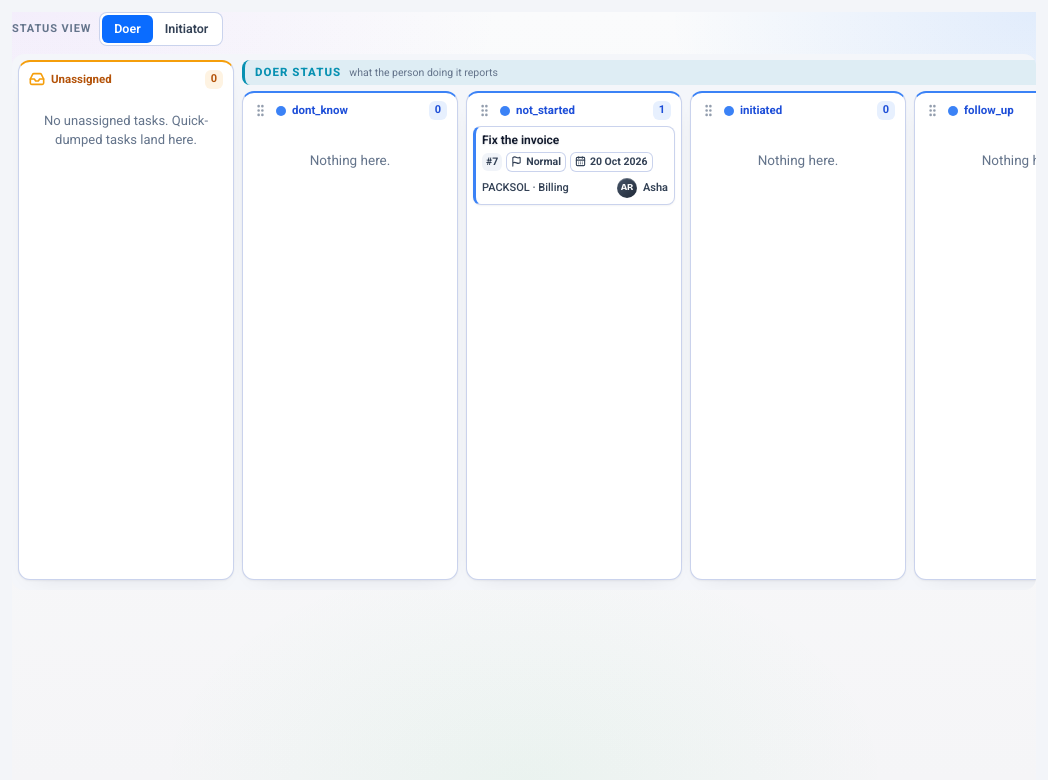
Test: Kanban Doer / Initiator switch › switching to Initiator replaces the columns, it does not just rename them
Click the tab "Initiator": (186, 29) [153,15,220,43]
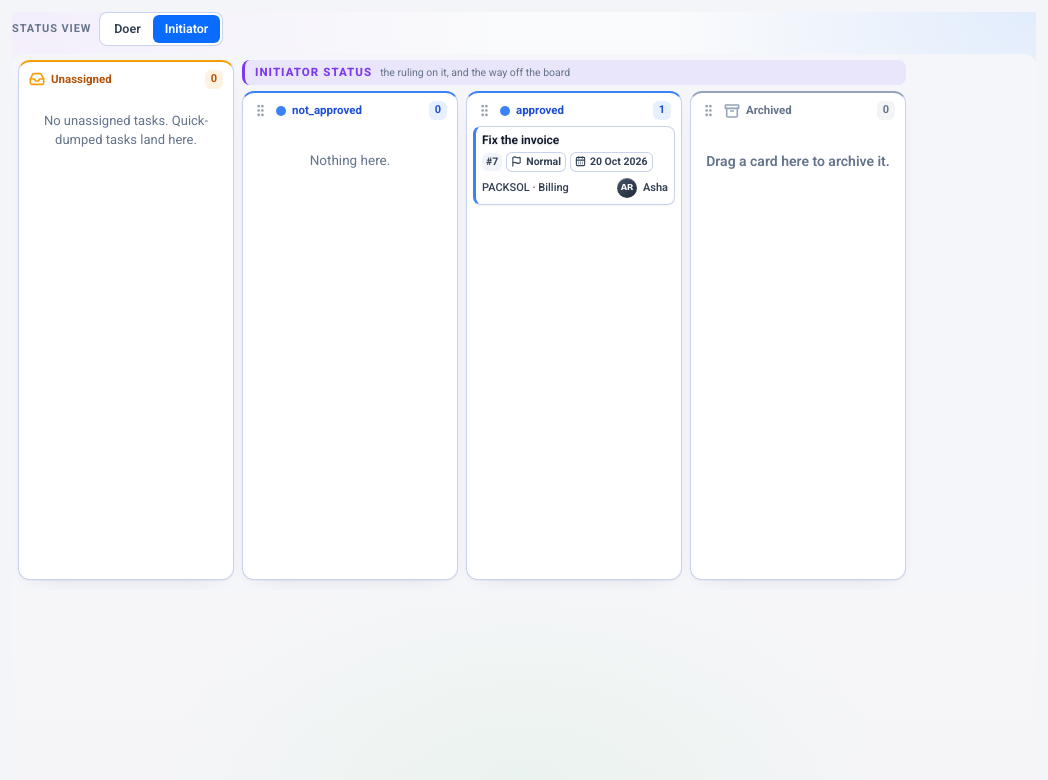
Expected: the number of links "Fix the invoice" is 1, [482,133,559,148]
Now the text "Initiator status" is shown, box [255,64,372,81]
Now the text "Doer status" is gone
Click the tab "Doer": (127, 29) [102,15,153,43]
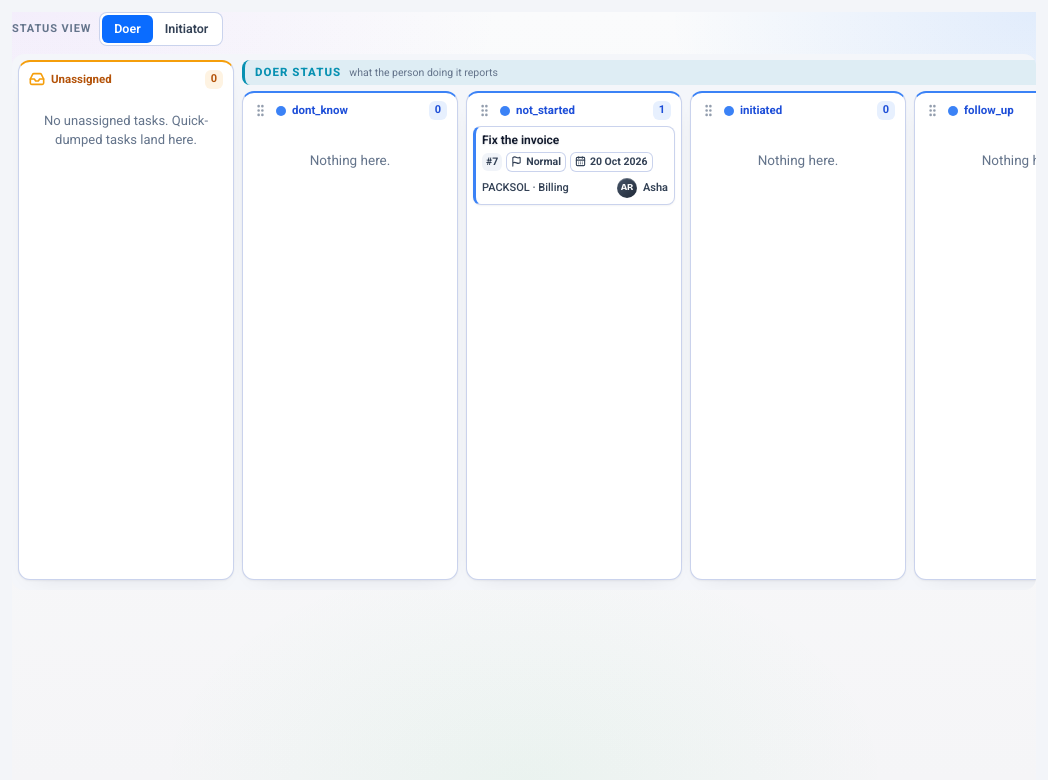
Now the text "Doer status" is shown, box [255,64,341,81]
Now the text "Initiator status" is gone
